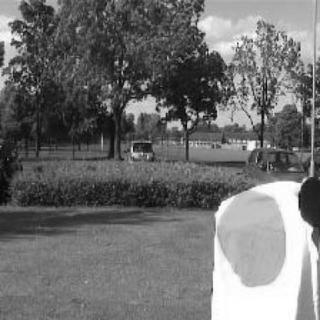other: (217, 180, 294, 290)
